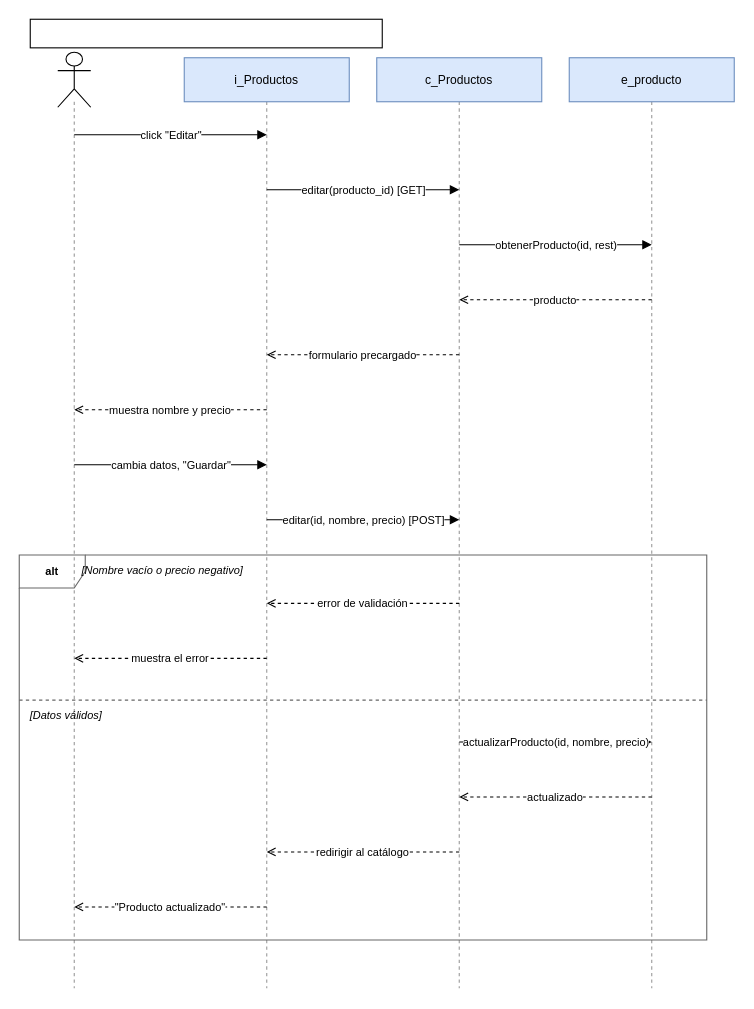
This 754x1009 diagram has some shape labels left out. The shapes that lost their labels are listed below. From the top down, each one's box as (x1, y1, x2, y2) in pixels, then its label:
(29, 18, 382, 48): Secuencia - Editar Producto (CU-24)
(57, 51, 91, 107): Administrador
